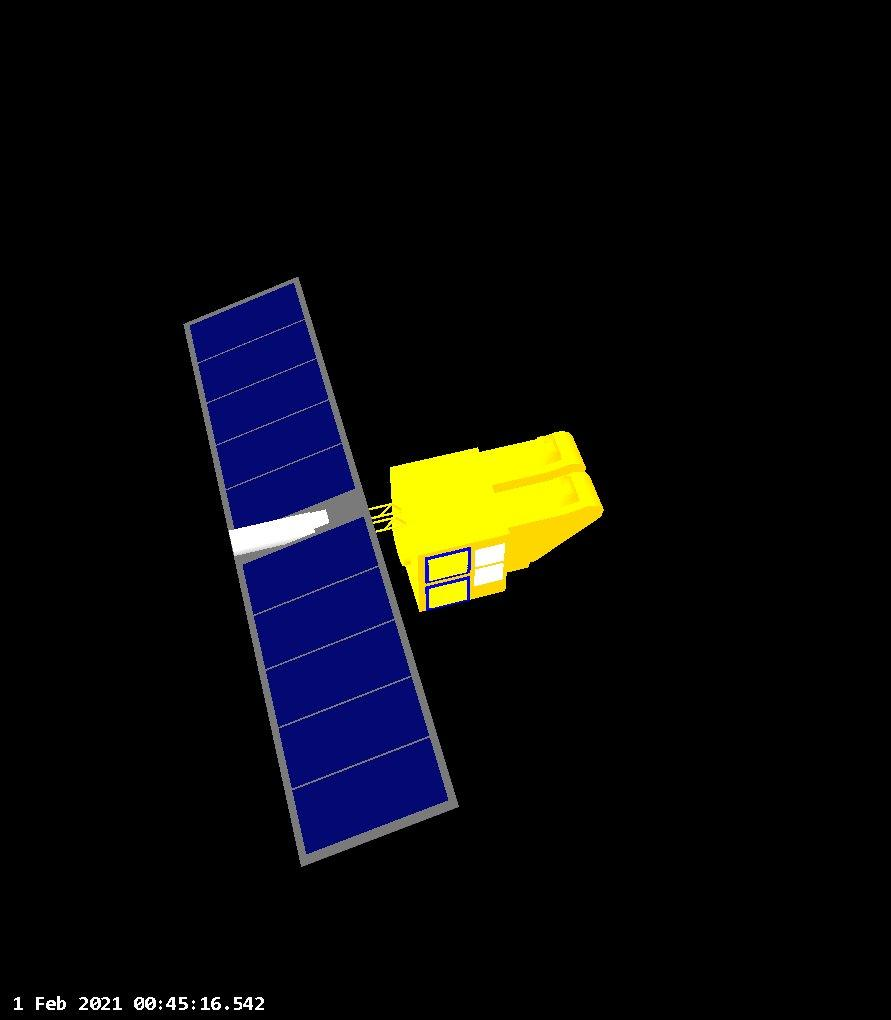body: (385, 429, 608, 616)
solar: (180, 273, 463, 872)
